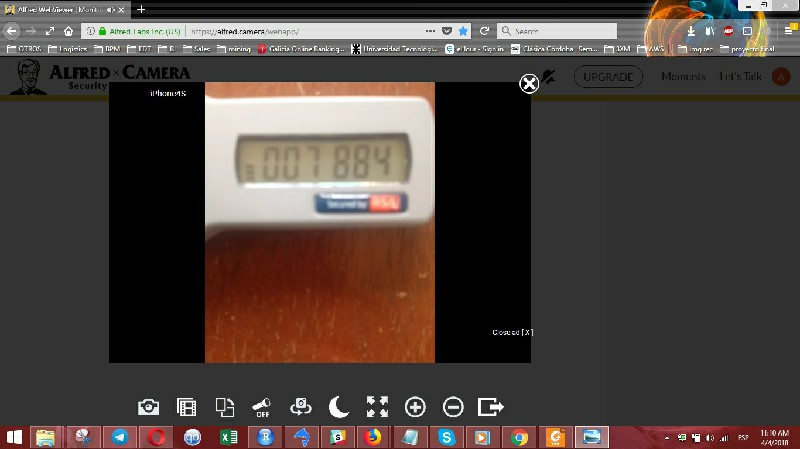display: (243, 140, 404, 184)
